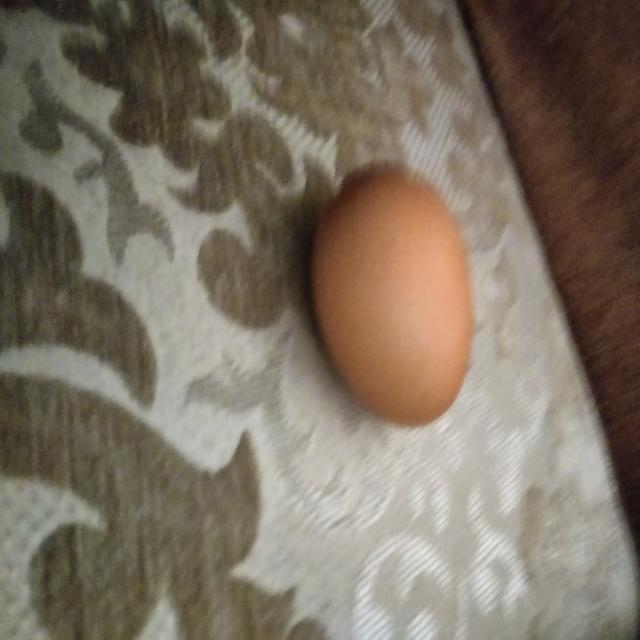egg: (303, 165, 484, 422)
